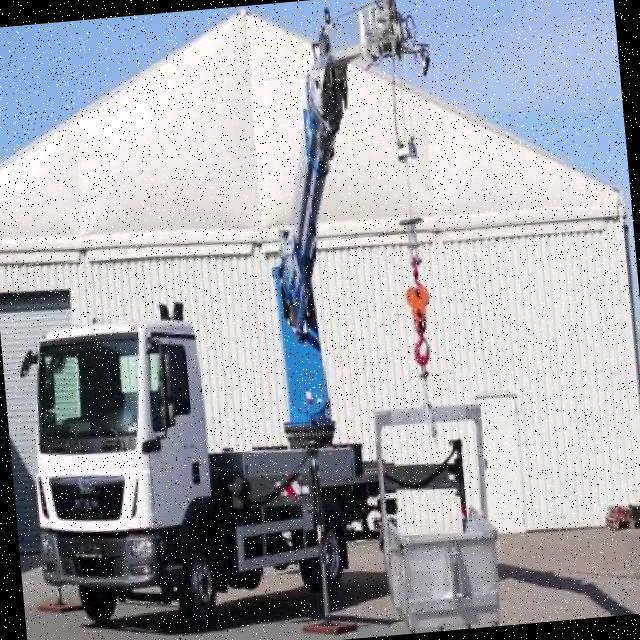Mobile Crane: (0, 0, 478, 640)
